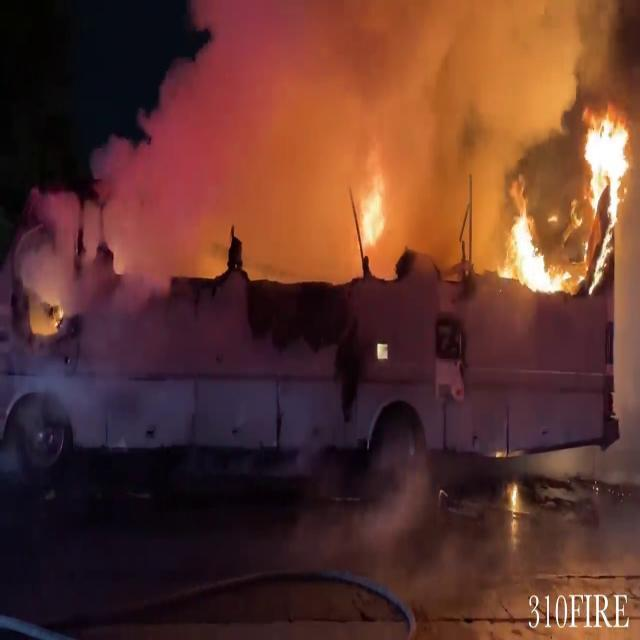Fire: (496, 196, 570, 302), (575, 106, 637, 225), (352, 158, 396, 278)
Smoke: (101, 0, 618, 274)
